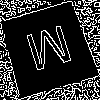M: (23, 24, 77, 80)
